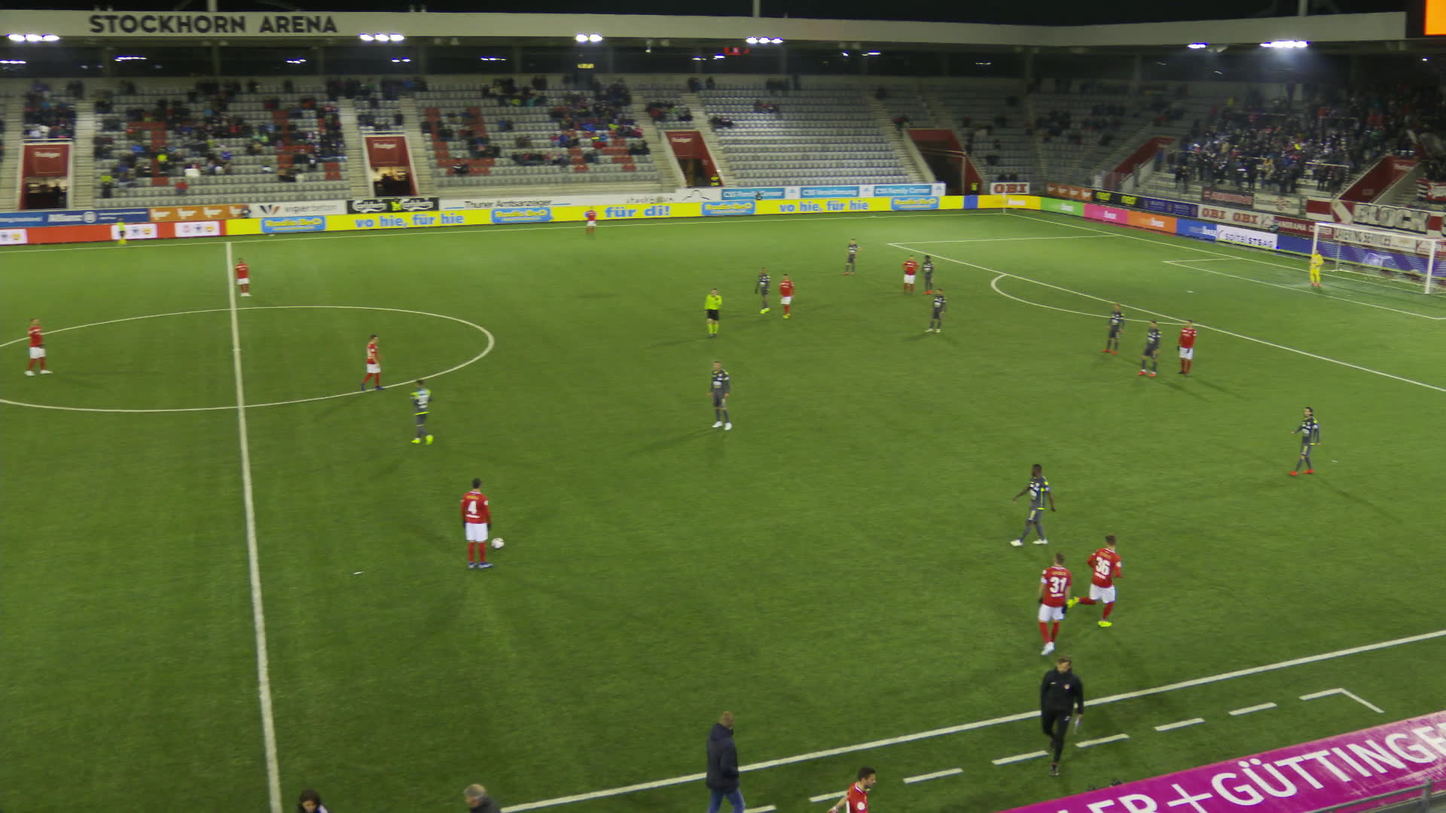ball: (491, 537, 504, 549)
player: (1066, 534, 1123, 629), (1008, 460, 1056, 545), (1036, 548, 1072, 653), (459, 477, 494, 570), (1286, 405, 1321, 477), (826, 766, 879, 812), (22, 315, 54, 376), (410, 378, 435, 446), (709, 361, 732, 431), (1135, 319, 1162, 376), (359, 333, 385, 388), (1173, 318, 1196, 376), (1101, 302, 1125, 355), (925, 288, 947, 333), (752, 266, 771, 315), (842, 237, 862, 276), (778, 273, 795, 318), (233, 257, 252, 297), (900, 254, 918, 296), (920, 253, 937, 294), (1307, 250, 1323, 289), (584, 206, 596, 236)
referee: (703, 288, 722, 338), (116, 218, 127, 245)
